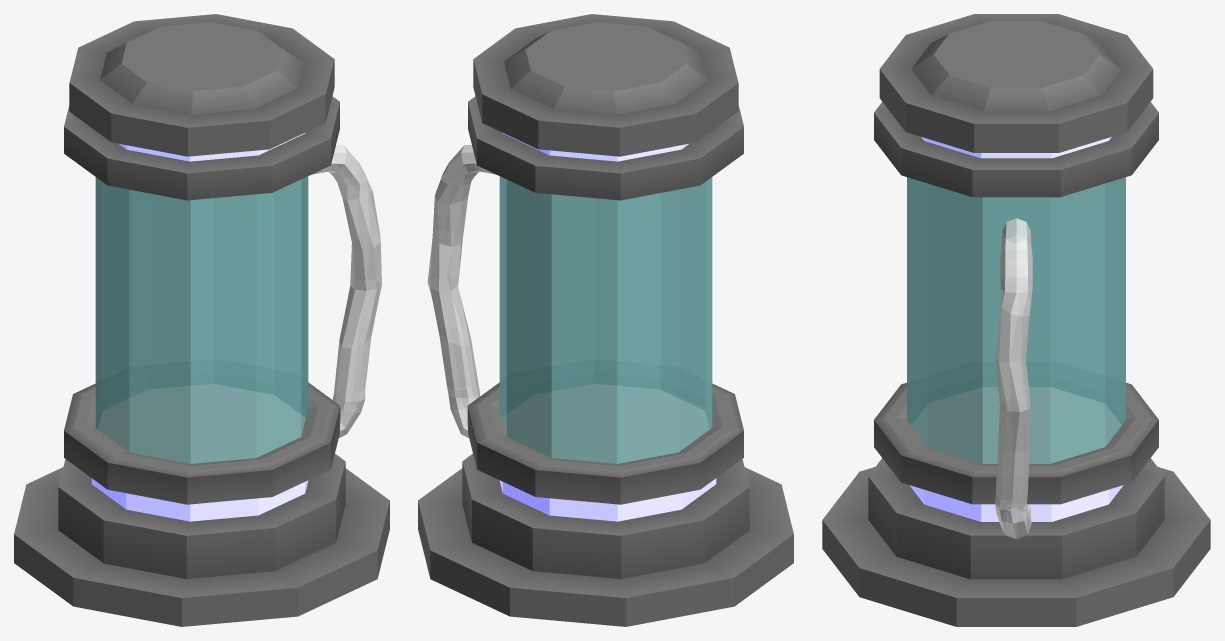
File: Laboratorio.fbx_CapsulaContencao.fbx
3 views of the same model, side by side, from view 1: azimuth 30°, elevation 25°; view 2: azimuth 150°, elevation 25°; view 3: azimuth 270°, elevation 25° (orthographic).
Visible parts, largest first — view 1: CapsulaContencao, TuboCapsula, AneisLuminosos; view 2: CapsulaContencao, TuboCapsula, AneisLuminosos; view 3: CapsulaContencao, TuboCapsula, AneisLuminosos.
Part boxes in pixels (x1,y1,x2,y2): CapsulaContencao: (14,14,389,626); TuboCapsula: (311,144,381,437); AneisLuminosos: (91,133,308,521); CapsulaContencao: (418,14,793,626); TuboCapsula: (427,144,496,437); AneisLuminosos: (499,133,716,521); CapsulaContencao: (822,14,1210,626); TuboCapsula: (995,218,1032,538); AneisLuminosos: (909,137,1123,521).
Bounding box in the file's own units: 143 × 200 × 142.
